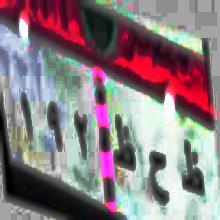1: (15, 88, 36, 147)
2: (70, 94, 92, 168)
7aa: (148, 139, 169, 210)
9: (44, 93, 64, 154)
Thaa: (179, 131, 206, 203), (112, 107, 136, 175)
